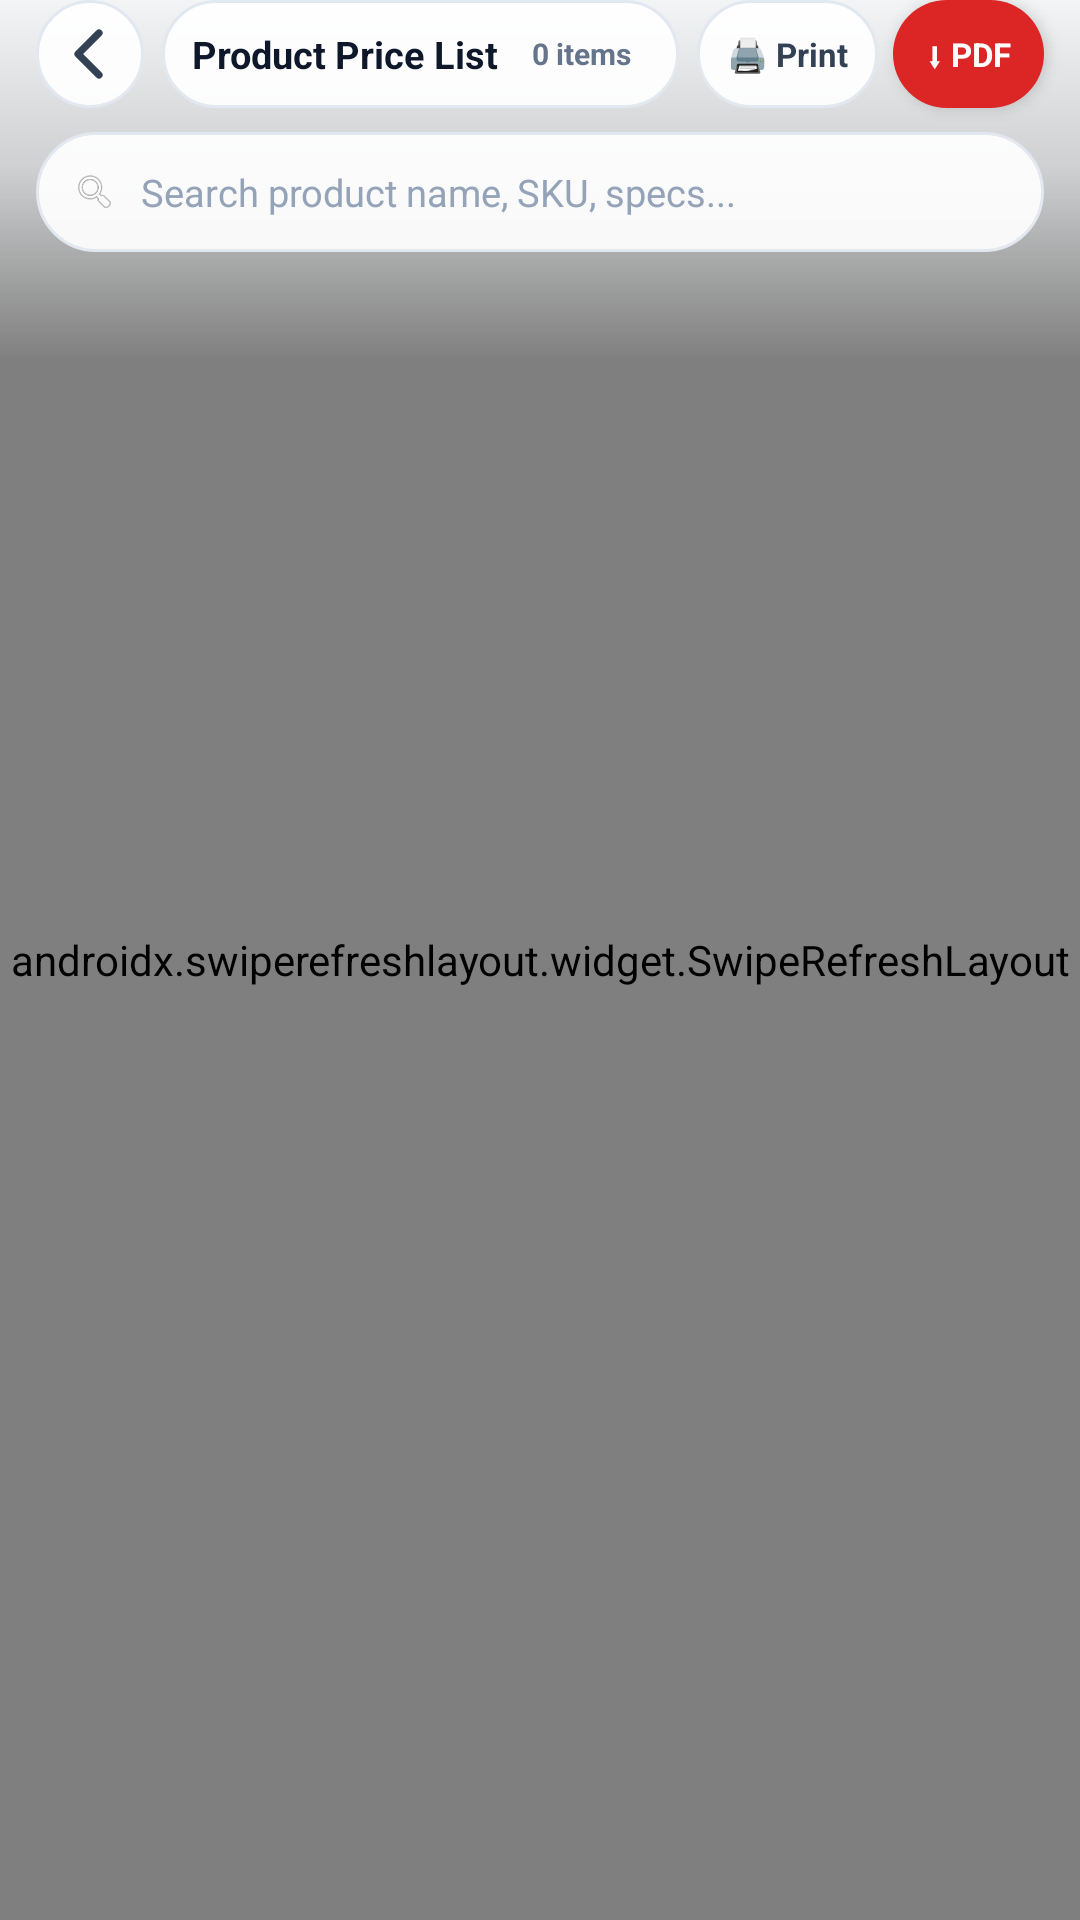

Icon click points for this 1080×1920 phone screenshot, format point (x, y):
Back: point (90, 54)
